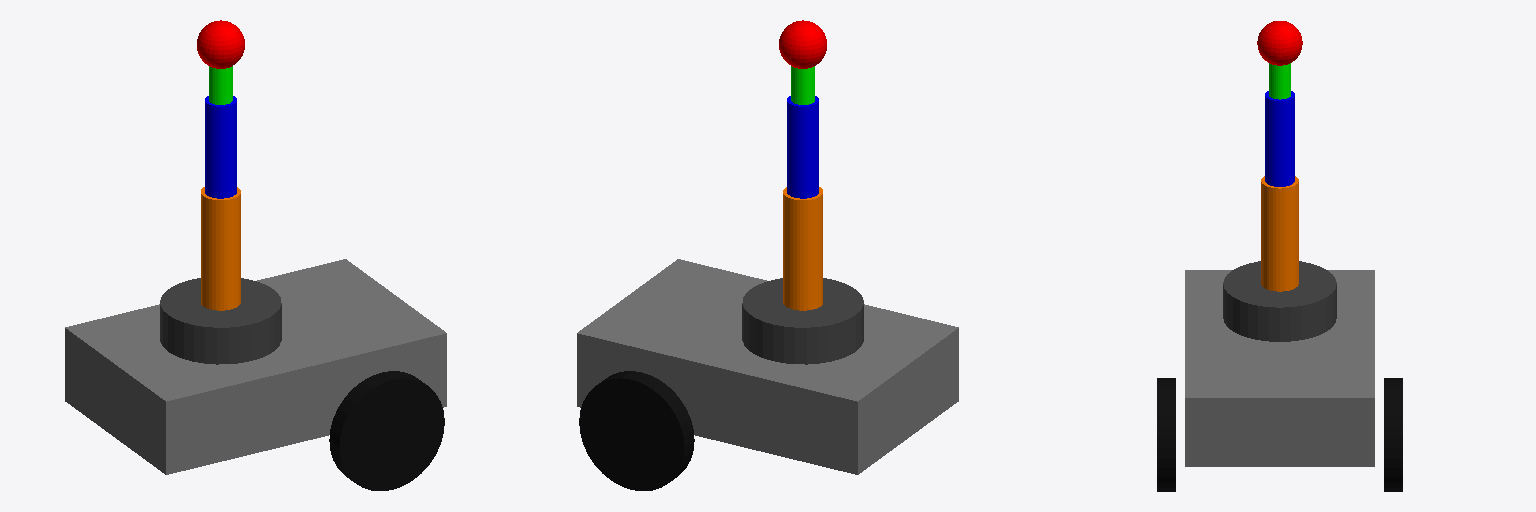
URDF robot description (mobile_manipulator):
<?xml version="1.0"?>
<robot name="mobile_manipulator">

  <!-- ========================================
       MOBILE BASE (from mobile_robot.urdf)
       ======================================== -->

  <!-- Main body -->
  <link name="base_link">
    <inertial>
      <mass value="10.0"/>
      <origin xyz="0 0 0"/>
      <inertia ixx="0.1" ixy="0.0" ixz="0.0" iyy="0.15" iyz="0.0" izz="0.2"/>
    </inertial>
    <visual>
      <geometry>
        <box size="0.8 0.5 0.2"/>
      </geometry>
      <material name="gray">
        <color rgba="0.5 0.5 0.5 1.0"/>
      </material>
    </visual>
    <collision>
      <geometry>
        <box size="0.8 0.5 0.2"/>
      </geometry>
    </collision>
  </link>

  <!-- Left wheel -->
  <link name="left_wheel">
    <inertial>
      <mass value="0.5"/>
      <origin xyz="0 0 0"/>
      <inertia ixx="0.001" ixy="0.0" ixz="0.0" iyy="0.001" iyz="0.0" izz="0.001"/>
    </inertial>
    <visual>
      <geometry>
        <cylinder radius="0.15" length="0.05"/>
      </geometry>
      <material name="black">
        <color rgba="0.1 0.1 0.1 1.0"/>
      </material>
    </visual>
    <collision>
      <geometry>
        <cylinder radius="0.15" length="0.05"/>
      </geometry>
    </collision>
  </link>

  <!-- Right wheel -->
  <link name="right_wheel">
    <inertial>
      <mass value="0.5"/>
      <origin xyz="0 0 0"/>
      <inertia ixx="0.001" ixy="0.0" ixz="0.0" iyy="0.001" iyz="0.0" izz="0.001"/>
    </inertial>
    <visual>
      <geometry>
        <cylinder radius="0.15" length="0.05"/>
      </geometry>
      <material name="black">
        <color rgba="0.1 0.1 0.1 1.0"/>
      </material>
    </visual>
    <collision>
      <geometry>
        <cylinder radius="0.15" length="0.05"/>
      </geometry>
    </collision>
  </link>

  <!-- Wheel joints -->
  <joint name="base_to_left_wheel" type="continuous">
    <parent link="base_link"/>
    <child link="left_wheel"/>
    <origin xyz="0.2 0.3 -0.1" rpy="1.5708 0 0"/>
    <axis xyz="0 0 1"/>
  </joint>

  <joint name="base_to_right_wheel" type="continuous">
    <parent link="base_link"/>
    <child link="right_wheel"/>
    <origin xyz="0.2 -0.3 -0.1" rpy="1.5708 0 0"/>
    <axis xyz="0 0 1"/>
  </joint>

  <!-- ========================================
       ARM MOUNT (connects arm to mobile base)
       ======================================== -->

  <!-- Arm mount platform (on top of base) -->
  <link name="arm_mount">
    <inertial>
      <mass value="1.0"/>
      <origin xyz="0 0 0"/>
      <inertia ixx="0.01" ixy="0.0" ixz="0.0" iyy="0.01" iyz="0.0" izz="0.01"/>
    </inertial>
    <visual>
      <geometry>
        <cylinder radius="0.15" length="0.1"/>
      </geometry>
      <material name="dark_gray">
        <color rgba="0.3 0.3 0.3 1.0"/>
      </material>
    </visual>
    <collision>
      <geometry>
        <cylinder radius="0.15" length="0.1"/>
      </geometry>
    </collision>
  </link>

  <!-- Mount joint (fixed to top of base) -->
  <joint name="base_to_mount" type="fixed">
    <parent link="base_link"/>
    <child link="arm_mount"/>
    <origin xyz="-0.1 0.0 0.15" rpy="0 0 0"/>
  </joint>

  <!-- ========================================
       ARM (from arm_robot.urdf)
       ======================================== -->

  <!-- Shoulder link (first arm segment) -->
  <link name="shoulder_link">
    <inertial>
      <mass value="0.5"/>
      <origin xyz="0 0 0.15"/>
      <inertia ixx="0.005" ixy="0.0" ixz="0.0" iyy="0.005" iyz="0.0" izz="0.001"/>
    </inertial>
    <visual>
      <geometry>
        <cylinder radius="0.05" length="0.3"/>
      </geometry>
      <material name="orange">
        <color rgba="1.0 0.5 0.0 1.0"/>
      </material>
      <origin rpy="0 0 0" xyz="0 0 0.15"/>
    </visual>
    <collision>
      <geometry>
        <cylinder radius="0.05" length="0.3"/>
      </geometry>
      <origin rpy="0 0 0" xyz="0 0 0.15"/>
    </collision>
  </link>

  <!-- Elbow link (second arm segment) -->
  <link name="elbow_link">
    <inertial>
      <mass value="0.3"/>
      <origin xyz="0 0 0.125"/>
      <inertia ixx="0.003" ixy="0.0" ixz="0.0" iyy="0.003" iyz="0.0" izz="0.0005"/>
    </inertial>
    <visual>
      <geometry>
        <cylinder radius="0.04" length="0.25"/>
      </geometry>
      <material name="blue">
        <color rgba="0.0 0.0 1.0 1.0"/>
      </material>
      <origin rpy="0 0 0" xyz="0 0 0.125"/>
    </visual>
    <collision>
      <geometry>
        <cylinder radius="0.04" length="0.25"/>
      </geometry>
      <origin rpy="0 0 0" xyz="0 0 0.125"/>
    </collision>
  </link>

  <!-- Wrist link (third arm segment) -->
  <link name="wrist_link">
    <inertial>
      <mass value="0.2"/>
      <origin xyz="0 0 0.075"/>
      <inertia ixx="0.001" ixy="0.0" ixz="0.0" iyy="0.001" iyz="0.0" izz="0.0003"/>
    </inertial>
    <visual>
      <geometry>
        <cylinder radius="0.03" length="0.15"/>
      </geometry>
      <material name="green">
        <color rgba="0.0 1.0 0.0 1.0"/>
      </material>
      <origin rpy="0 0 0" xyz="0 0 0.075"/>
    </visual>
    <collision>
      <geometry>
        <cylinder radius="0.03" length="0.15"/>
      </geometry>
      <origin rpy="0 0 0" xyz="0 0 0.075"/>
    </collision>
  </link>

  <!-- End effector -->
  <link name="end_effector">
    <inertial>
      <mass value="0.1"/>
      <origin xyz="0 0 0"/>
      <inertia ixx="0.0001" ixy="0.0" ixz="0.0" iyy="0.0001" iyz="0.0" izz="0.0001"/>
    </inertial>
    <visual>
      <geometry>
        <sphere radius="0.06"/>
      </geometry>
      <material name="red">
        <color rgba="1.0 0.0 0.0 1.0"/>
      </material>
    </visual>
    <collision>
      <geometry>
        <sphere radius="0.06"/>
      </geometry>
    </collision>
  </link>

  <!-- Arm joints -->

  <!-- Mount to shoulder joint (shoulder rotation - Z axis) -->
  <joint name="mount_to_shoulder" type="revolute">
    <parent link="arm_mount"/>
    <child link="shoulder_link"/>
    <origin xyz="0.0 0.0 0.05" rpy="0 0 0"/>
    <axis xyz="0 0 1"/>
    <limit lower="-3.14159" upper="3.14159" effort="100" velocity="2.0"/>
  </joint>

  <!-- Shoulder to elbow joint (shoulder pitch - X axis) -->
  <joint name="shoulder_to_elbow" type="revolute">
    <parent link="shoulder_link"/>
    <child link="elbow_link"/>
    <origin xyz="0.0 0.0 0.30" rpy="0 0 0"/>
    <axis xyz="1 0 0"/>
    <limit lower="-2.0" upper="2.0" effort="80" velocity="1.8"/>
  </joint>

  <!-- Elbow to wrist joint (elbow pitch - X axis) -->
  <joint name="elbow_to_wrist" type="revolute">
    <parent link="elbow_link"/>
    <child link="wrist_link"/>
    <origin xyz="0.0 0.0 0.25" rpy="0 0 0"/>
    <axis xyz="1 0 0"/>
    <limit lower="-2.5" upper="2.5" effort="60" velocity="1.5"/>
  </joint>

  <!-- Wrist to end effector joint (wrist rotation - Z axis) -->
  <joint name="wrist_to_end" type="revolute">
    <parent link="wrist_link"/>
    <child link="end_effector"/>
    <origin xyz="0.0 0.0 0.15" rpy="0 0 0"/>
    <axis xyz="0 0 1"/>
    <limit lower="-1.57" upper="1.57" effort="40" velocity="1.2"/>
  </joint>

</robot>

--- Facts derived from the render (not from the file) ---
The picture shows the robot from 3 angles, left to right: view 1: azimuth 30°, elevation 25°; view 2: azimuth 150°, elevation 25°; view 3: azimuth 270°, elevation 25°; orthographic projection.
Robot: mobile_manipulator — 8 links, 7 joints (4 revolute, 2 continuous, 1 fixed); root link base_link; default pose: every joint at zero.
Visible links, largest first — view 1: base_link, right_wheel, arm_mount, shoulder_link, elbow_link, end_effector, wrist_link; view 2: base_link, left_wheel, arm_mount, shoulder_link, elbow_link, end_effector, wrist_link; view 3: base_link, arm_mount, shoulder_link, elbow_link, left_wheel, right_wheel, end_effector, wrist_link.
Boxes of the visible links, bbox=[...] form: base_link: bbox=[65, 259, 446, 474]; right_wheel: bbox=[329, 371, 444, 490]; arm_mount: bbox=[160, 278, 281, 364]; shoulder_link: bbox=[201, 187, 240, 310]; elbow_link: bbox=[205, 96, 236, 198]; end_effector: bbox=[197, 20, 244, 68]; wrist_link: bbox=[209, 66, 232, 104]; base_link: bbox=[577, 259, 958, 474]; left_wheel: bbox=[579, 371, 694, 490]; arm_mount: bbox=[742, 278, 863, 364]; shoulder_link: bbox=[783, 187, 822, 310]; elbow_link: bbox=[787, 96, 818, 198]; end_effector: bbox=[779, 20, 826, 68]; wrist_link: bbox=[791, 66, 814, 104]; base_link: bbox=[1185, 270, 1374, 466]; arm_mount: bbox=[1223, 261, 1336, 341]; shoulder_link: bbox=[1261, 176, 1298, 291]; elbow_link: bbox=[1265, 91, 1294, 186]; left_wheel: bbox=[1384, 378, 1402, 491]; right_wheel: bbox=[1157, 378, 1175, 491]; end_effector: bbox=[1257, 21, 1302, 65]; wrist_link: bbox=[1269, 63, 1290, 99].
Bounding box of the posed robot: 0.8 × 0.65 × 1.21 m (x, y, z).
Geometry: primitives only (box / cylinder / sphere), no mesh files.
